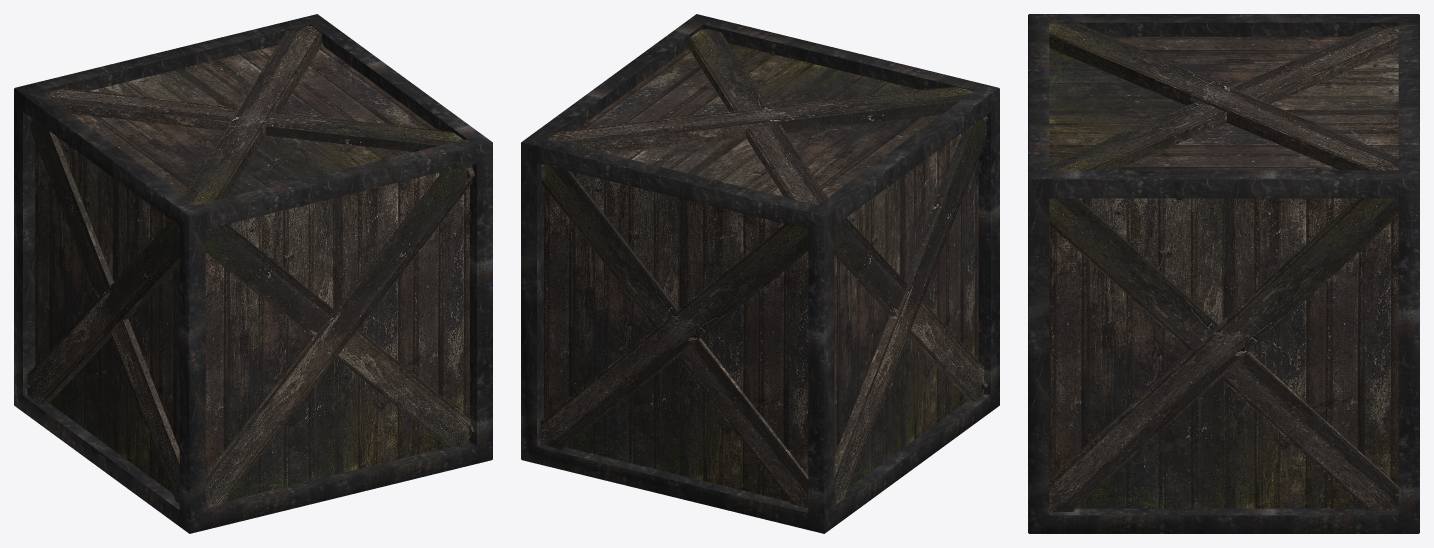
Rendered from WoodenBox_3.fbx.
The picture shows the model from 3 angles, left to right: view 1: azimuth 30°, elevation 25°; view 2: azimuth 150°, elevation 25°; view 3: azimuth 270°, elevation 25°; orthographic projection. The views are drawn at different scales.
Parts seen in each view (by area): view 1: WoodenBox_3; view 2: WoodenBox_3; view 3: WoodenBox_3.
Part boxes in pixels (bbox=[...]): WoodenBox_3: bbox=[14, 14, 492, 533]; WoodenBox_3: bbox=[521, 14, 999, 533]; WoodenBox_3: bbox=[1028, 14, 1419, 533].
Size of the model in its own units: 100 by 100 by 100.
